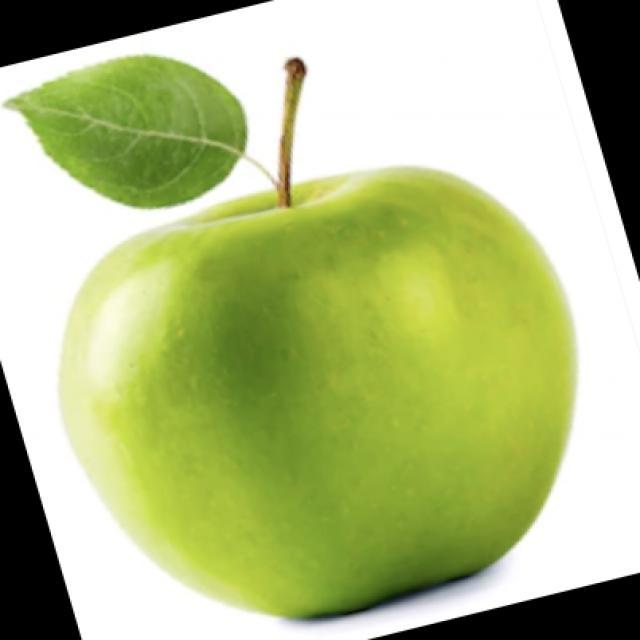Fresh Apple: (82, 170, 573, 595)
